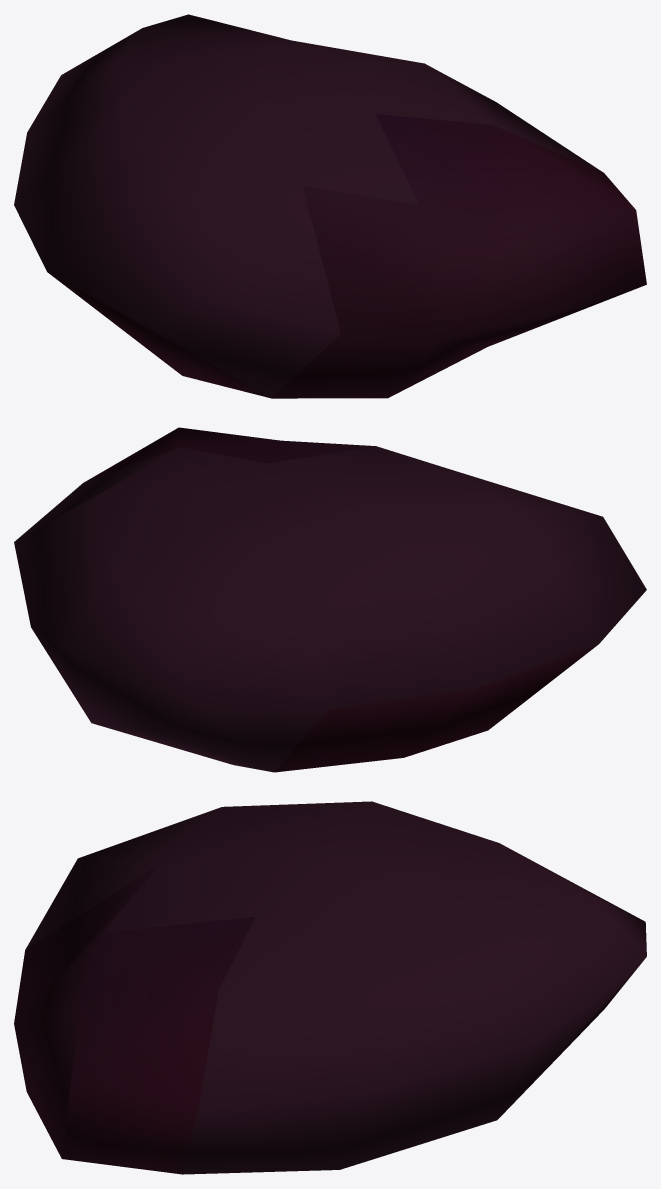
File: terrain-abyss-chancel-object-050.obj
3 views of the same model, one above another, from view 1: azimuth 30°, elevation 25°; view 2: azimuth 150°, elevation 25°; view 3: azimuth 270°, elevation 25° (orthographic). The views are drawn at different scales.
Parts seen in each view (by area): view 1: terrain-abyss-chancel-object-050; view 2: terrain-abyss-chancel-object-050; view 3: terrain-abyss-chancel-object-050.
Boxes of the visible parts, <box> form: terrain-abyss-chancel-object-050: <box>14,14,646,398</box>; terrain-abyss-chancel-object-050: <box>14,427,646,772</box>; terrain-abyss-chancel-object-050: <box>14,801,646,1174</box>.
Size of the model in its own units: 0.0133 by 0.00597 by 0.0135.
